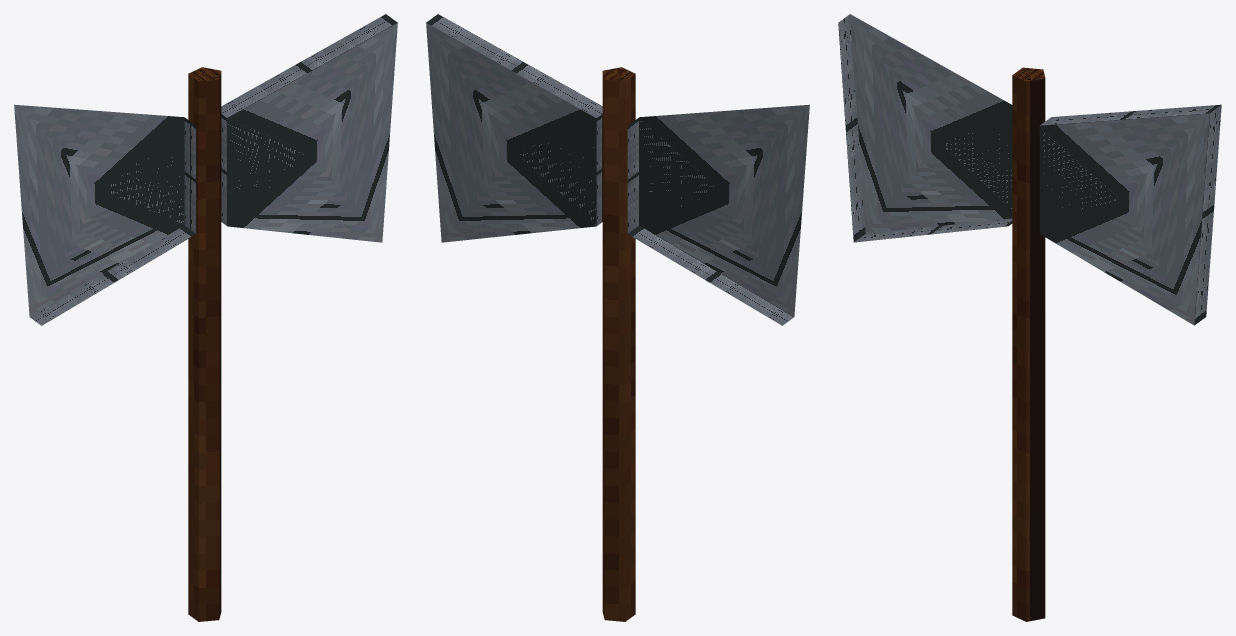
File: axe.glb
3 renders of one model, left to right at view 1: azimuth 30°, elevation 25°; view 2: azimuth 150°, elevation 25°; view 3: azimuth 330°, elevation 25°, orthographic.
Parts seen in each view (by area): view 1: axe; view 2: axe; view 3: axe.
Boxes of the visible parts, left/top/right/bottom form: axe: left=14, top=14, right=397, bottom=621; axe: left=426, top=14, right=809, bottom=621; axe: left=838, top=14, right=1221, bottom=621.
Bounding box in the file's own units: 0.72 × 1.02 × 0.0571.
2 materials, 2 textured.
